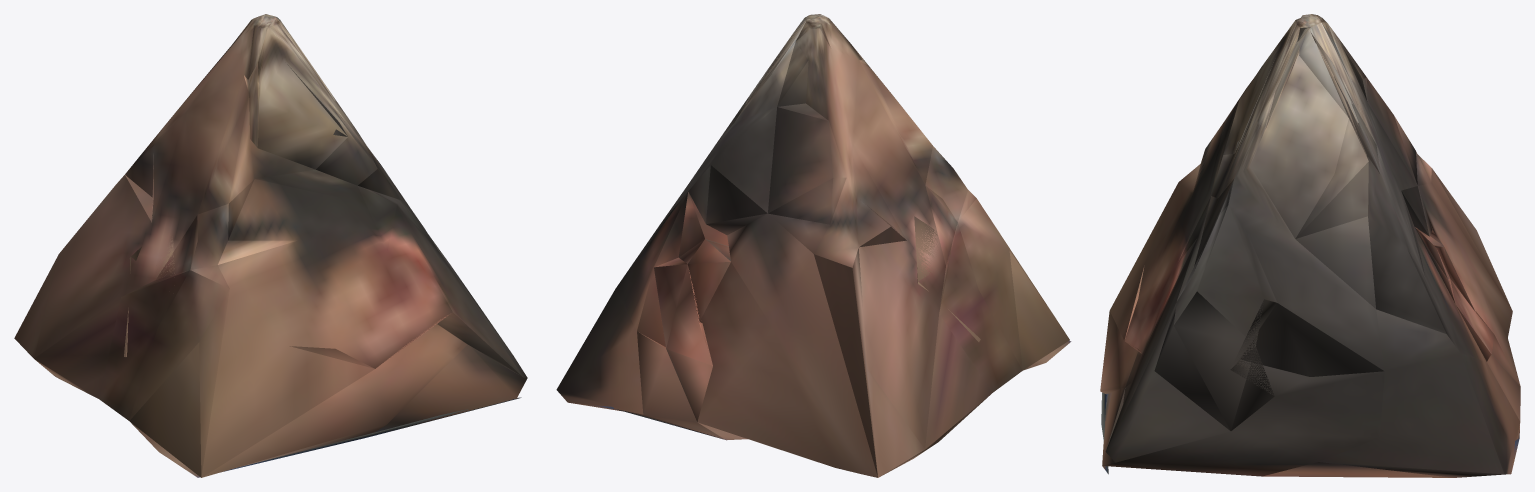
File: Chapyramid.fbx
3 renders of one model, left to right at view 1: azimuth 30°, elevation 25°; view 2: azimuth 150°, elevation 25°; view 3: azimuth 270°, elevation 25°, orthographic. The views are drawn at different scales.
Visible parts, largest first — view 1: 3DModel_LowPoly; view 2: 3DModel_LowPoly; view 3: 3DModel_LowPoly.
Boxes of the visible parts, x1,y1,x2,y2 form: 3DModel_LowPoly: (14,14,527,477); 3DModel_LowPoly: (556,14,1071,477); 3DModel_LowPoly: (1100,14,1520,477).
Size of the model in its own units: 222 by 222 by 222.
